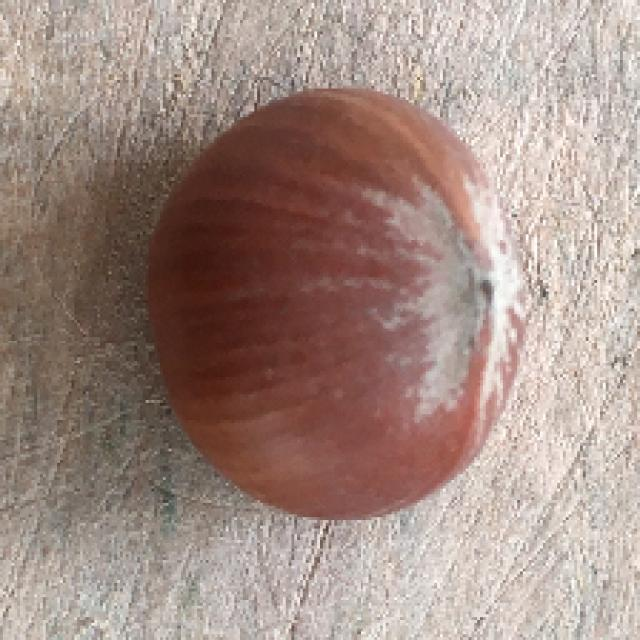damagedHazelnut: (129, 74, 543, 527)
